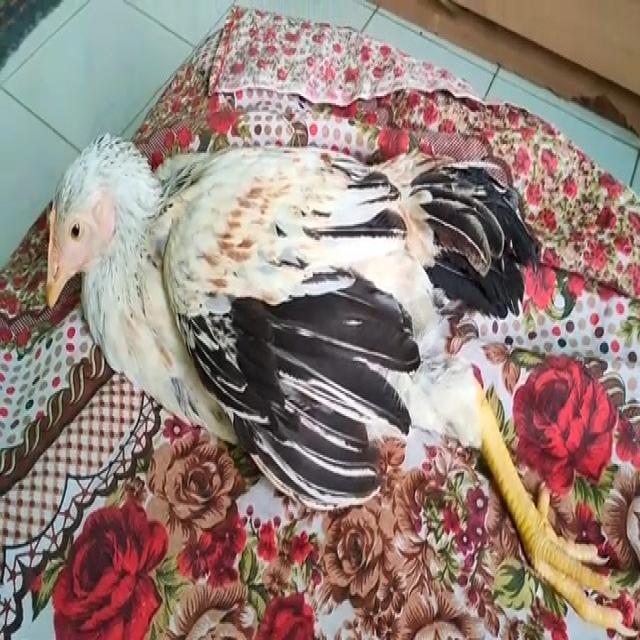leg stretching: (38, 92, 596, 594)
